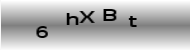6: (35, 24, 48, 39)
B: (102, 8, 117, 22)
X: (79, 9, 96, 24)
h: (65, 12, 79, 26)
t: (127, 14, 139, 28)
